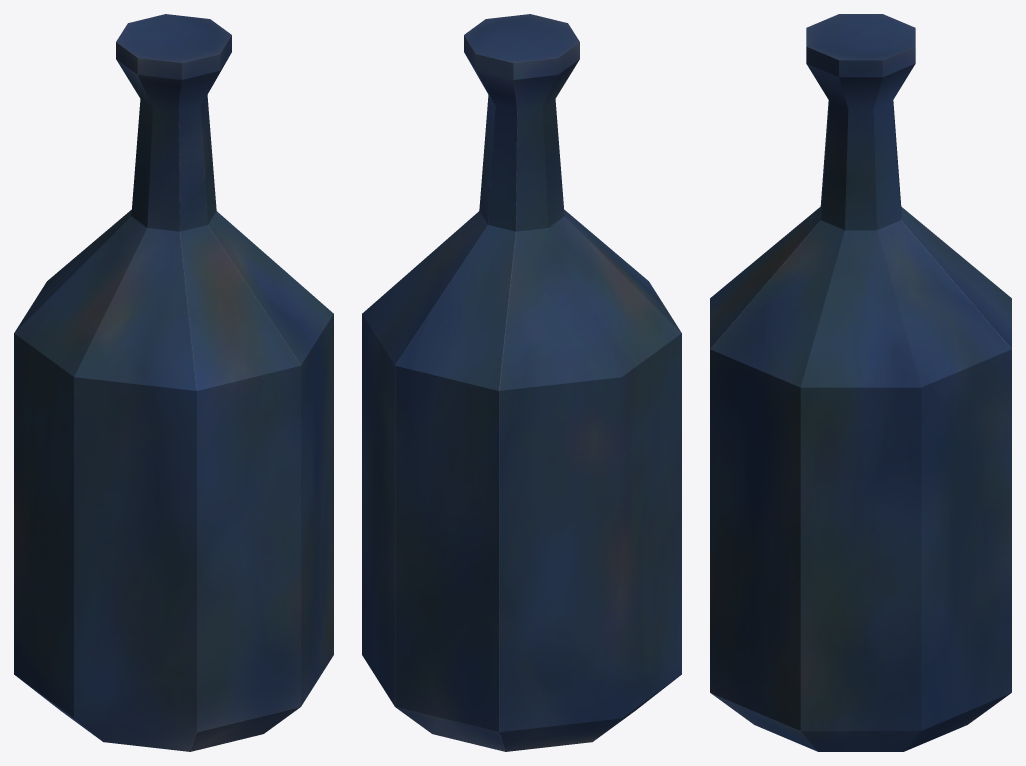
File: Buffer.fbx
3 views of the same model, side by side, from view 1: azimuth 30°, elevation 25°; view 2: azimuth 150°, elevation 25°; view 3: azimuth 270°, elevation 25° (orthographic).
Visible parts, largest first — view 1: Buffer; view 2: Buffer; view 3: Buffer.
Part boxes in pixels (x1,y1,x2,y2): Buffer: [14, 14, 333, 751]; Buffer: [362, 14, 681, 751]; Buffer: [710, 14, 1011, 751].
Bounding box in the file's own units: 14.96 × 36.63 × 14.96.
1 material, 1 textured.
